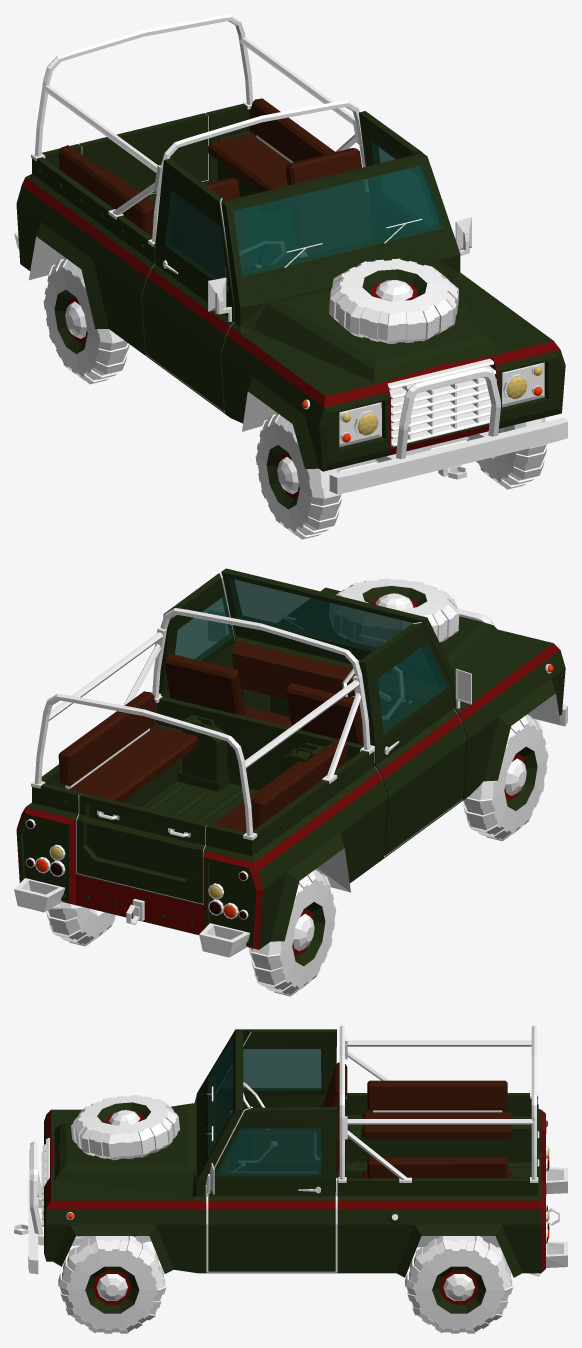
File: MilitaryJeep_03.FBX
The picture shows the model from 3 angles, top to bottom: view 1: azimuth 30°, elevation 25°; view 2: azimuth 150°, elevation 25°; view 3: azimuth 270°, elevation 25°; orthographic projection. The views are drawn at different scales.
Visible parts, largest first — view 1: MilitaryJeep_03, windshield, spareWheel, bumper_f, wheel_f_r, frontSeat_l, wheel_b_r, backSeat_l, grill, frontSeat_r, backSeat_r, wheel_f_l (+3 smaller); view 2: MilitaryJeep_03, backSeat_l, windshield, wheel_f_r, wheel_b_r, spareWheel, frontSeat_l, backSeat_r, frontSeat_r, jerryCan_l, wheel_b_l, lights (+2 smaller); view 3: MilitaryJeep_03, wheel_b_l, wheel_f_l, backSeat_r, spareWheel, frontSeat_r, backSeat_l, windshield, bumper_f, jerryCan_r, grill.
Boxes of the visible parts, box(x1,y1,x2,y2) form: MilitaryJeep_03: box(14, 14, 565, 471); windshield: box(233, 165, 444, 276); spareWheel: box(329, 258, 458, 344); bumper_f: box(329, 367, 567, 494); wheel_f_r: box(255, 413, 341, 539); frontSeat_l: box(285, 148, 370, 255); wheel_b_r: box(43, 257, 129, 384); backSeat_l: box(208, 98, 335, 208); grill: box(388, 358, 496, 446); frontSeat_r: box(172, 177, 249, 283); backSeat_r: box(58, 145, 155, 236); wheel_f_l: box(466, 417, 547, 489); MilitaryJeep_03: box(14, 568, 565, 957); backSeat_l: box(58, 691, 197, 802); windshield: box(228, 578, 411, 651); wheel_f_r: box(463, 714, 548, 841); wheel_b_r: box(249, 870, 336, 996); spareWheel: box(329, 578, 459, 646); frontSeat_l: box(164, 653, 291, 727); backSeat_r: box(213, 738, 347, 832); frontSeat_r: box(285, 683, 363, 745); jerryCan_l: box(177, 714, 229, 791); wheel_b_l: box(46, 907, 115, 946); lights: box(25, 663, 551, 919); MilitaryJeep_03: box(44, 1025, 567, 1277); wheel_b_l: box(405, 1236, 513, 1333); wheel_f_l: box(58, 1236, 166, 1333); backSeat_r: box(362, 1080, 512, 1138); spareWheel: box(71, 1095, 179, 1160); frontSeat_r: box(249, 1062, 347, 1171); backSeat_l: box(362, 1157, 512, 1178); windshield: box(208, 1036, 232, 1157); bumper_f: box(14, 1141, 90, 1274); jerryCan_r: box(345, 1115, 362, 1178); grill: box(41, 1138, 49, 1226).
Bounding box in the file's own units: 21.08 × 21.93 × 46.96.
